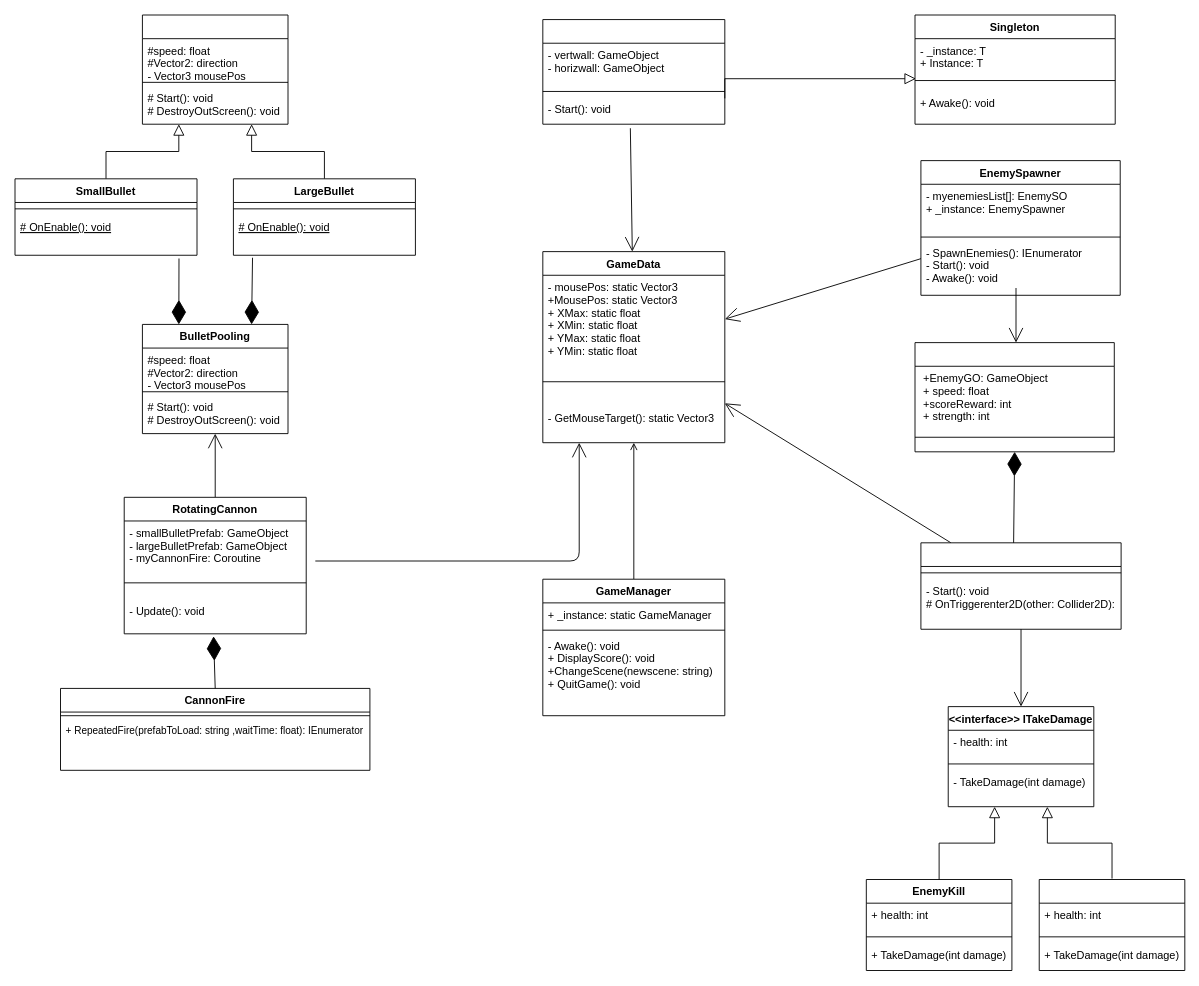
Some shapes in this 1199 by 986 pixel diagram are drawn without their labels. The box of each missing label's shape, as (x1, y1, x2, y2) in pixels:
Bullet: (142, 14, 288, 124)
Enemy: (920, 542, 1121, 629)
EnemyDamage: (1038, 879, 1185, 971)
EnemySO: (914, 342, 1114, 452)
SetupGame: (542, 19, 725, 124)
